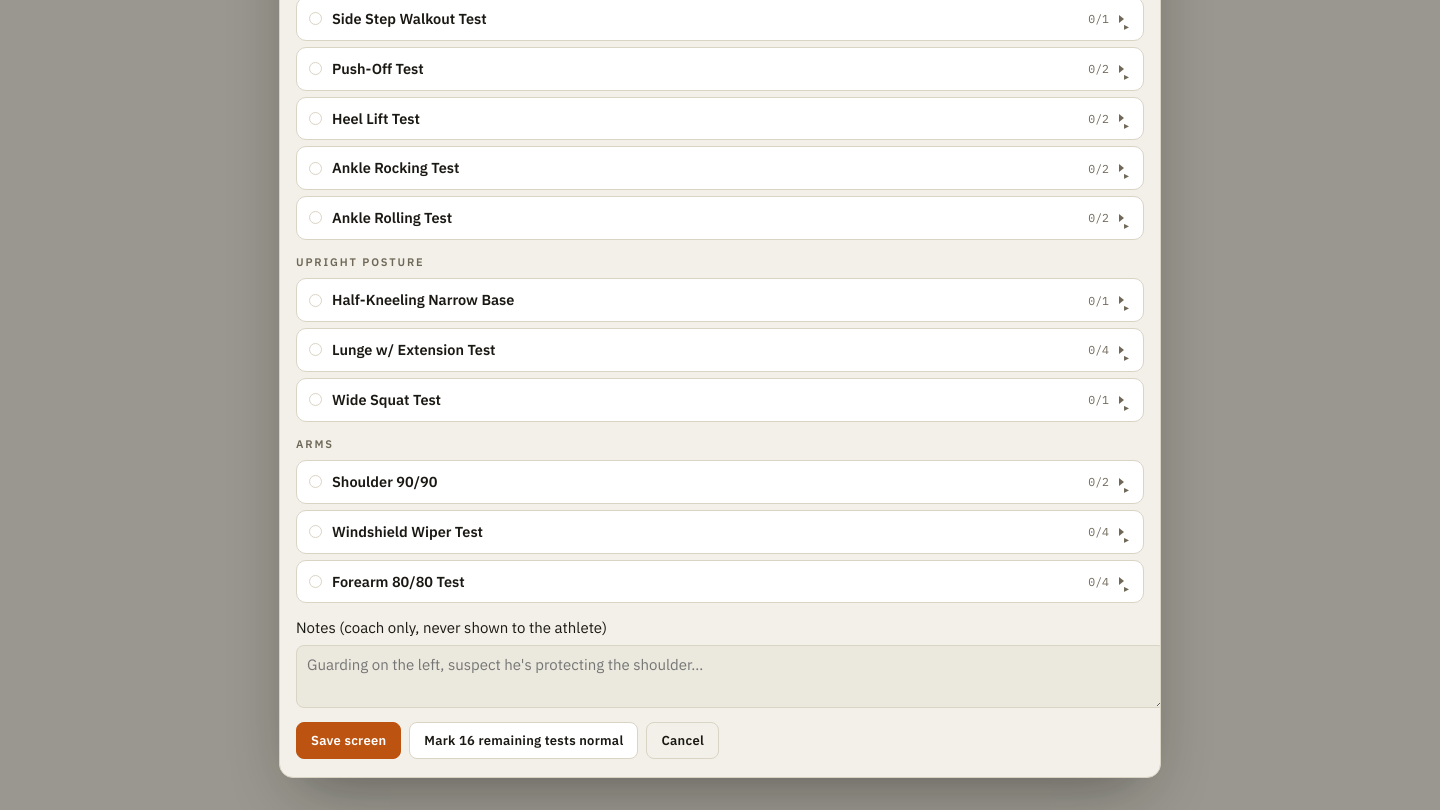
Test: the footer offers to fill only what it can actually fill
(page scrolled)
Click the button "Mark 16 remaining tests normal" at point(524, 741), box x1=409 y1=722 x2=638 y2=759
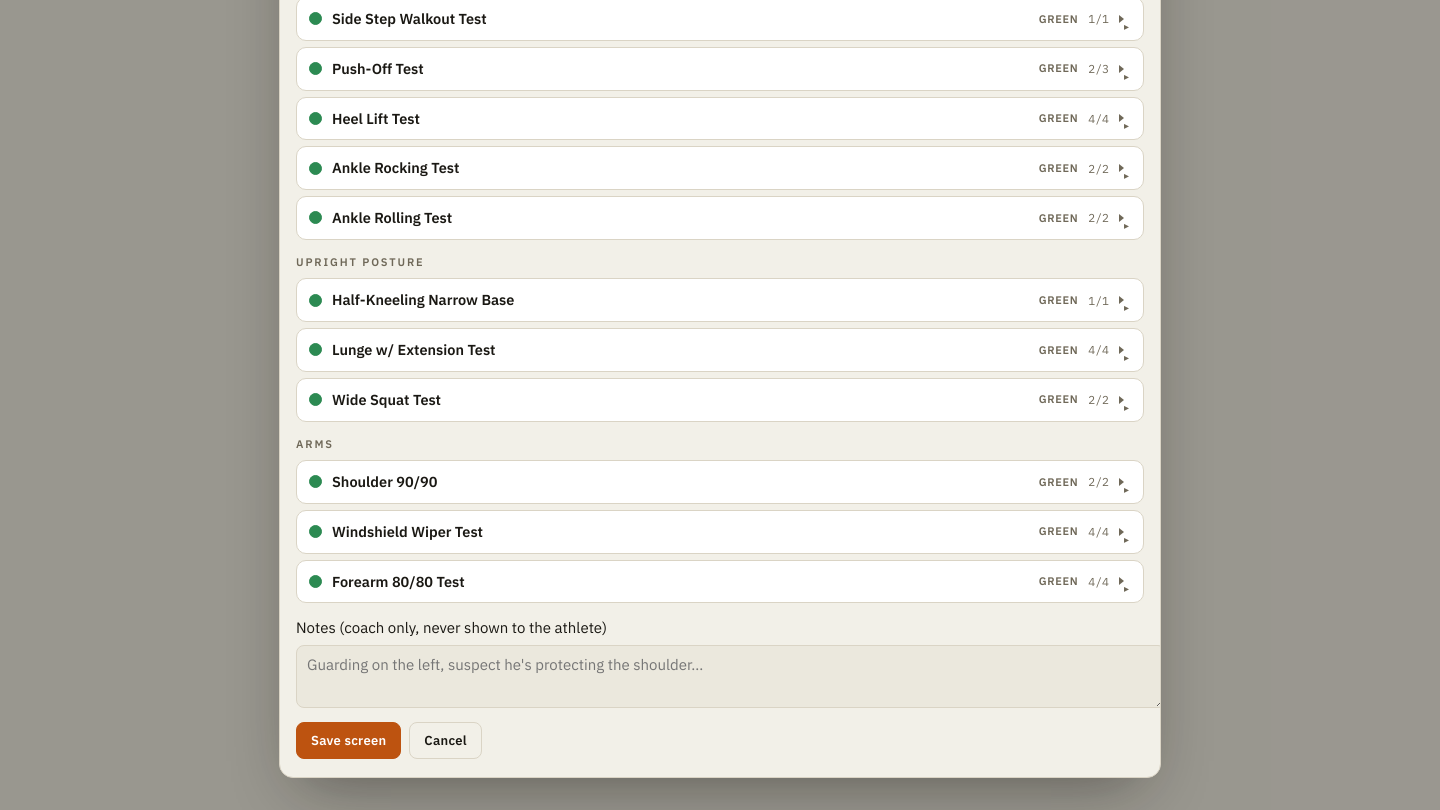
Now the button "Mark 16 remaining tests normal" is gone
